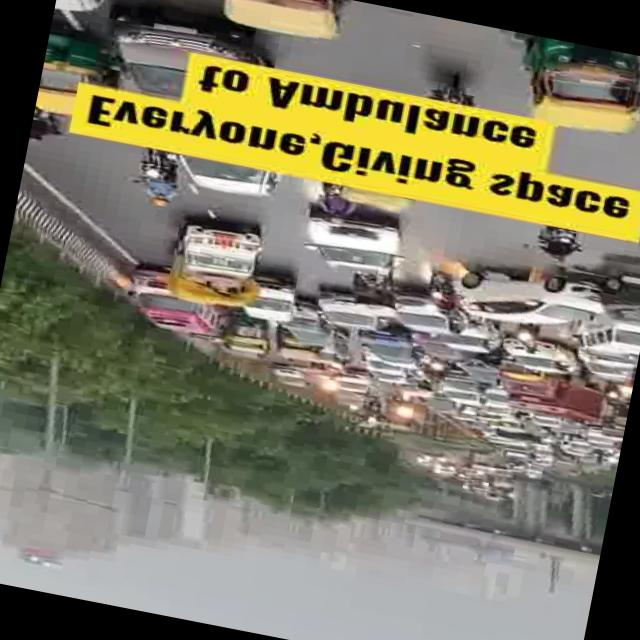ambulance: (113, 262, 228, 341)
